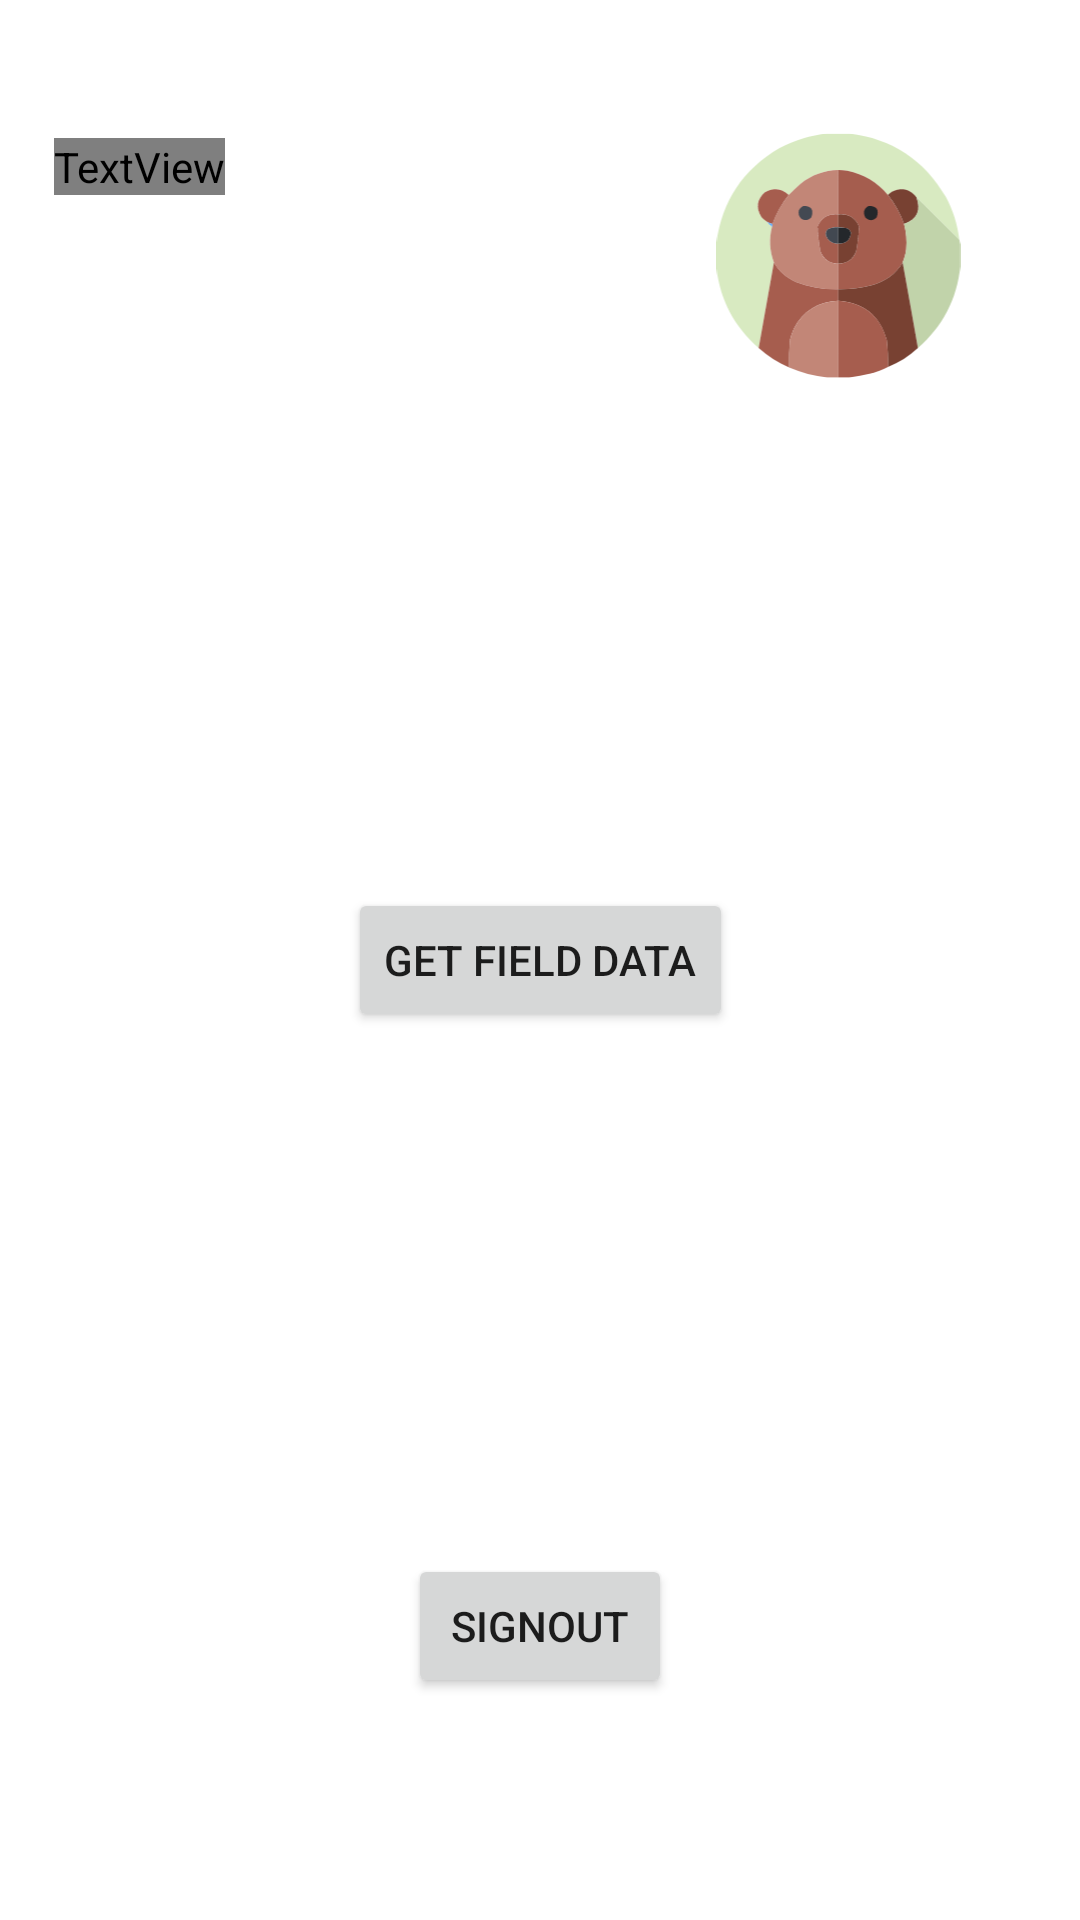

Named icons in this screenshot (1080w x 1920h) and their bounding boxes, (x1, y1, x2, y2):
user: (716, 134, 961, 378)
